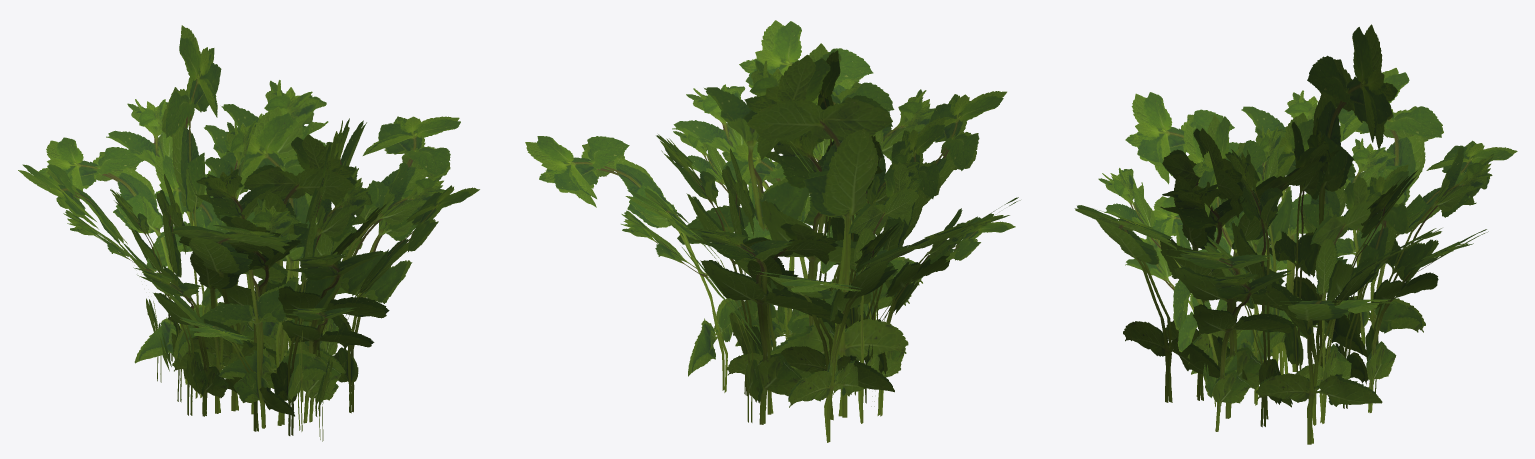
The model's file is NaturePlant05_5.FBX.
The picture shows the model from 3 angles, left to right: view 1: azimuth 30°, elevation 25°; view 2: azimuth 150°, elevation 25°; view 3: azimuth 270°, elevation 25°; orthographic projection. The views are drawn at different scales.
Parts seen in each view (by area): view 1: NaturePlant05_5; view 2: NaturePlant05_5; view 3: NaturePlant05_5.
Part boxes in pixels (x1,y1,x2,y2): NaturePlant05_5: [18, 25, 479, 441]; NaturePlant05_5: [525, 20, 1020, 442]; NaturePlant05_5: [1074, 24, 1517, 444].
Size of what is drawn, in the model's own units: 1.29 by 1.05 by 1.17.
